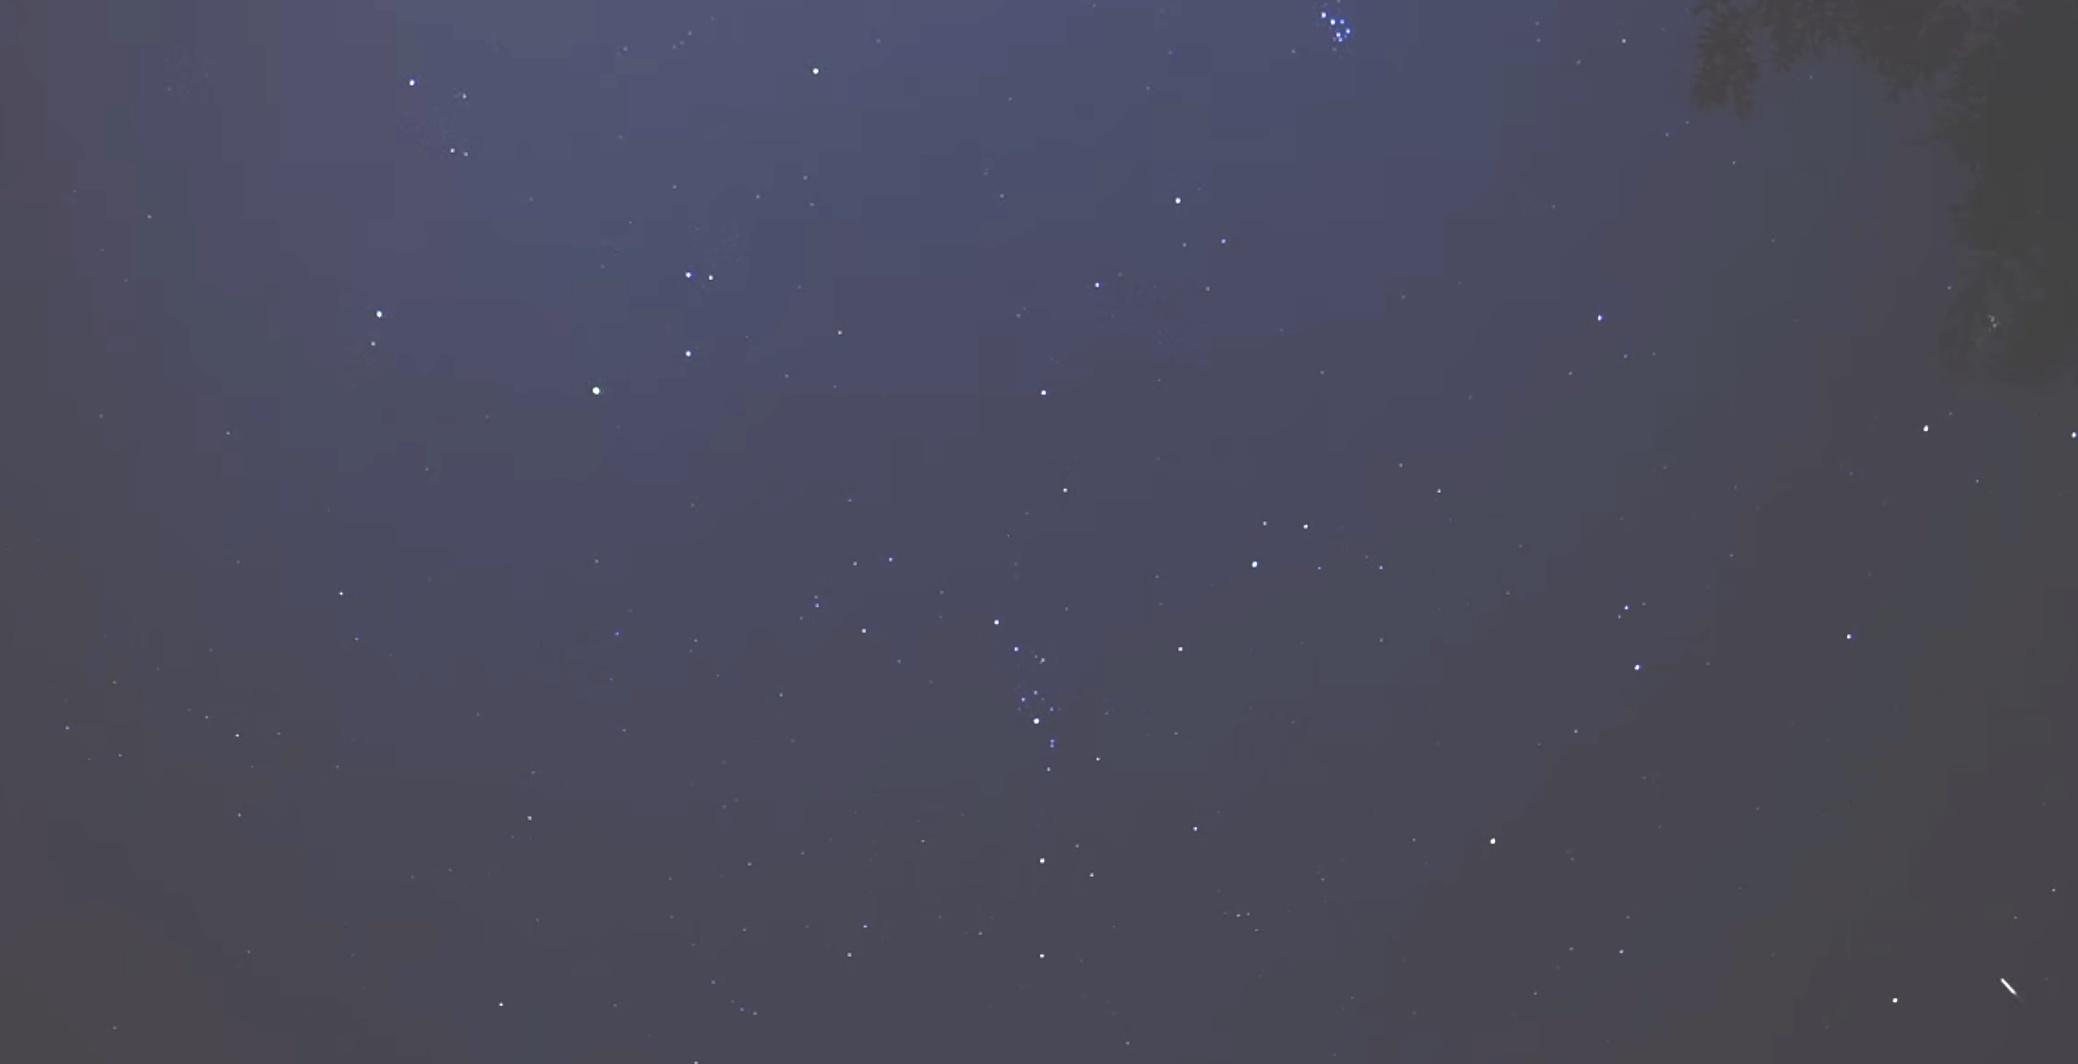meteorite: (1953, 968, 2067, 1006)
